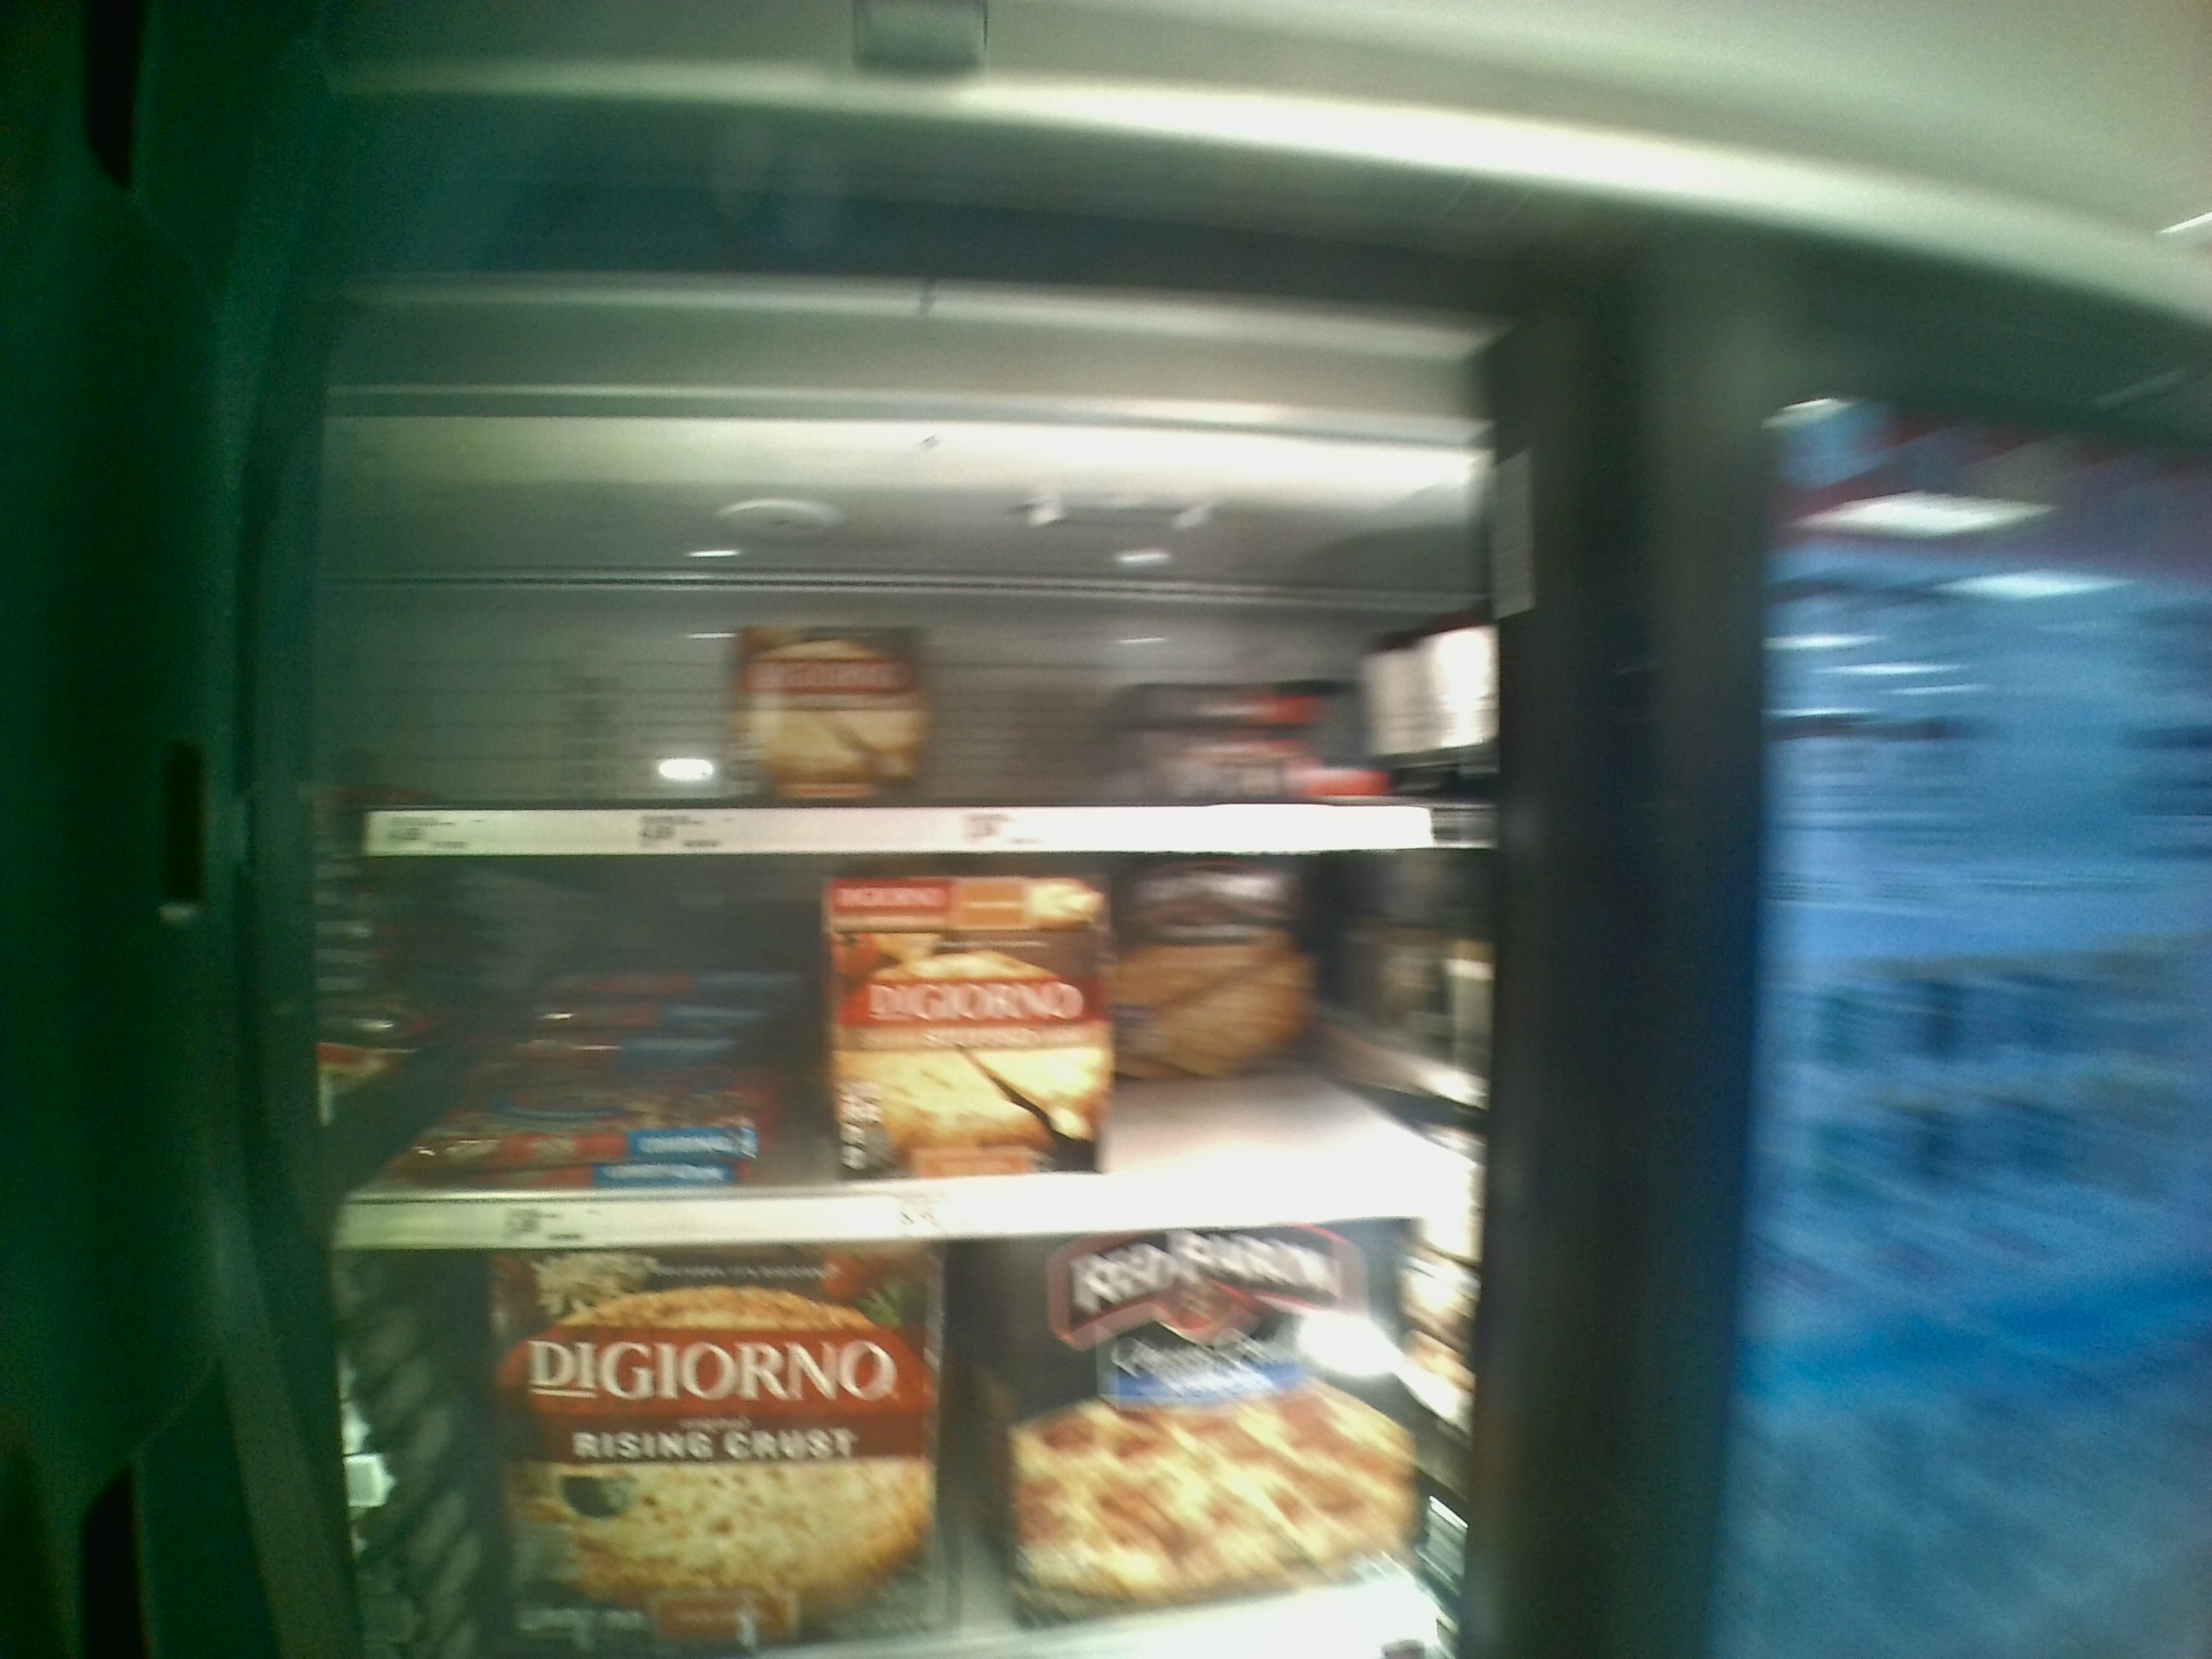shelf: (354, 836, 1479, 1246)
